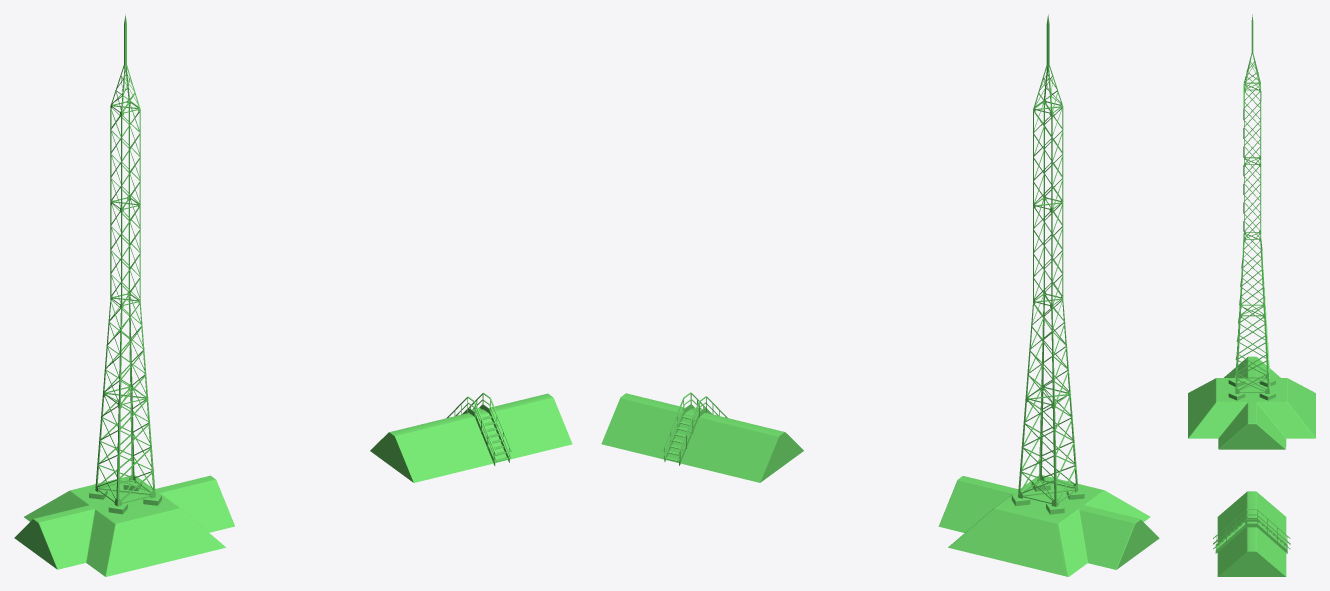
File: OilStorage.fbx
The picture shows the model from 3 angles, left to right: view 1: azimuth 30°, elevation 25°; view 2: azimuth 150°, elevation 25°; view 3: azimuth 270°, elevation 25°; orthographic projection. The views are drawn at different scales.
Visible parts, largest first — view 1: Block_2, Antenna, Block_1, Ladder; view 2: Block_2, Antenna, Block_1, Ladder; view 3: Block_2, Block_1, Antenna, Ladder.
Boxes of the visible parts, x1=… form: Block_2: x1=14, y1=475, x2=234, y2=576; Antenna: x1=89, y1=14, x2=161, y2=514; Block_1: x1=370, y1=393, x2=572, y2=482; Ladder: x1=446, y1=392, x2=511, y2=465; Block_2: x1=938, y1=475, x2=1159, y2=576; Antenna: x1=1011, y1=14, x2=1084, y2=514; Block_1: x1=601, y1=393, x2=803, y2=482; Ladder: x1=662, y1=392, x2=727, y2=465; Block_2: x1=1188, y1=356, x2=1315, y2=449; Block_1: x1=1217, y1=491, x2=1286, y2=576; Antenna: x1=1228, y1=14, x2=1275, y2=400; Ladder: x1=1213, y1=509, x2=1290, y2=553.
Size of the model in its own units: 3545 by 3419 by 982.
